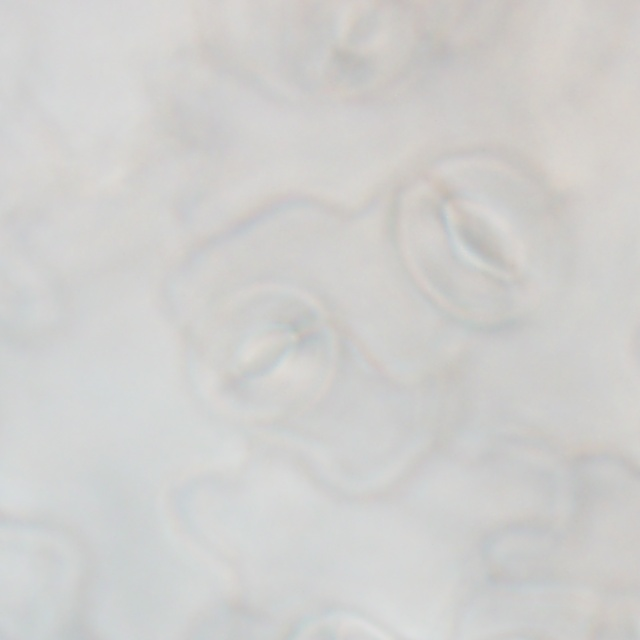center: (441, 198, 520, 281), (230, 326, 297, 380), (322, 41, 398, 57), (319, 624, 368, 628)
stomata-huw1: (396, 152, 562, 325), (190, 286, 335, 417), (276, 1, 444, 97), (290, 613, 397, 639)
